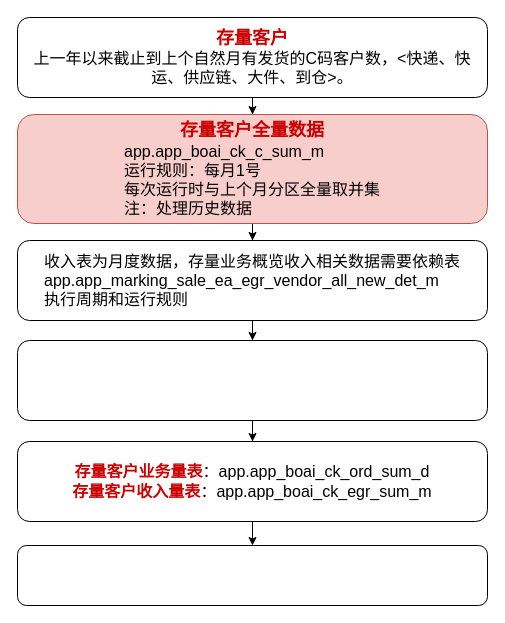
The diagram is 505 pixels wide and 623 high, and some of its shapes have lost their labels. Here are the shapes that lost their labels. From the top down, the centre of each, then its label:
At point (252, 380): "数据明细中，指标维度与数据字段对应 指标维度：时间、ABCDEF客户等级、业务条线、区域、战区、商业/商家类别".
At point (252, 575): "存量业务概览可视化".
